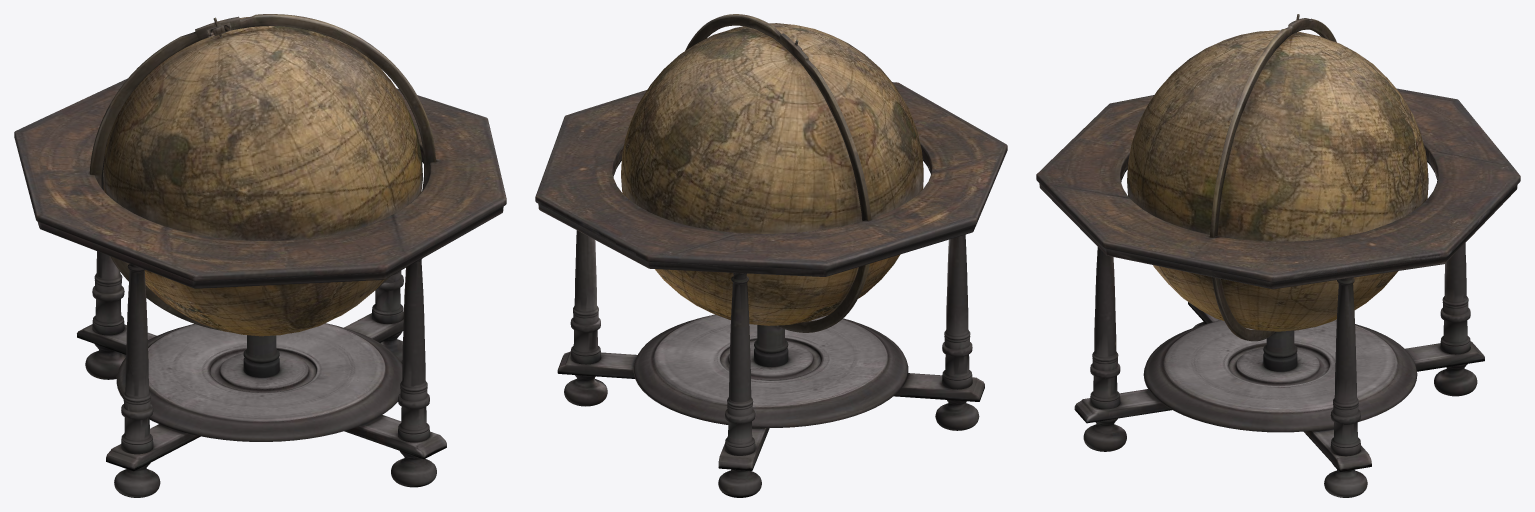
The model's file is earth.glb.
The picture shows the model from 3 angles, left to right: view 1: azimuth 30°, elevation 25°; view 2: azimuth 150°, elevation 25°; view 3: azimuth 270°, elevation 25°; orthographic projection. The views are drawn at different scales.
Parts seen in each view (by area): view 1: Object_4, Object_7, Object_5, Object_2, Object_12, Object_11, Object_9, Object_10, Object_6; view 2: Object_4, Object_7, Object_5, Object_9, Object_12, Object_2, Object_10, Object_6; view 3: Object_4, Object_7, Object_5, Object_10, Object_11, Object_9, Object_2, Object_6.
Boxes of the visible parts, left/top/right/bottom form: Object_4: left=103, top=17, right=422, bottom=336; Object_7: left=14, top=78, right=506, bottom=471; Object_5: left=116, top=323, right=402, bottom=441; Object_2: left=89, top=14, right=435, bottom=330; Object_12: left=114, top=264, right=160, bottom=497; Object_11: left=391, top=259, right=436, bottom=487; Object_9: left=85, top=156, right=125, bottom=379; Object_10: left=371, top=270, right=403, bottom=363; Object_6: left=207, top=23, right=279, bottom=377; Object_4: left=621, top=23, right=923, bottom=325; Object_7: left=535, top=82, right=1007, bottom=470; Object_5: left=633, top=314, right=908, bottom=427; Object_9: left=718, top=273, right=761, bottom=497; Object_12: left=935, top=234, right=979, bottom=430; Object_2: left=685, top=14, right=871, bottom=332; Object_10: left=564, top=230, right=607, bottom=406; Object_6: left=754, top=45, right=801, bottom=366; Object_4: left=1127, top=30, right=1428, bottom=331; Object_7: left=1036, top=88, right=1520, bottom=471; Object_5: left=1143, top=319, right=1417, bottom=432; Object_10: left=1324, top=277, right=1367, bottom=497; Object_11: left=1083, top=247, right=1126, bottom=451; Object_9: left=1434, top=243, right=1477, bottom=396; Object_2: left=1209, top=18, right=1336, bottom=341; Object_6: left=1263, top=330, right=1297, bottom=371.
Bounding box in the file's own units: 0.9447 × 0.8399 × 0.9498.
8 materials, 8 textured.
